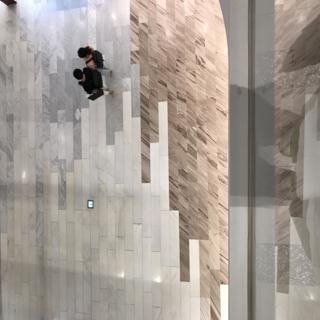person: (64, 64, 119, 106), (68, 36, 116, 69)
